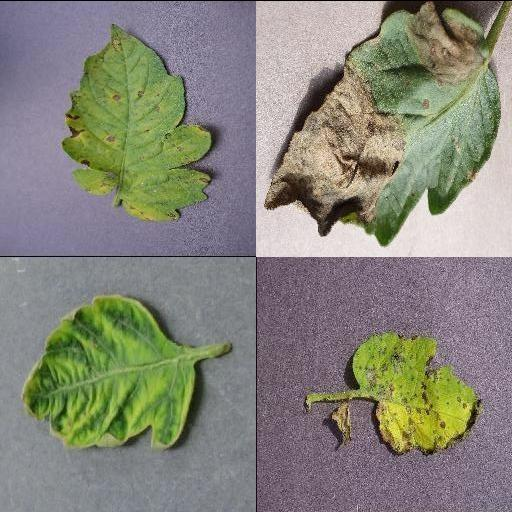Late Blight: (262, 0, 502, 246)
Septoria: (61, 23, 214, 225), (351, 333, 485, 455)
Yellow Leaf Curl Virus: (20, 293, 198, 449)
